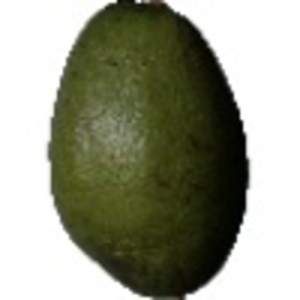abacate: (44, 1, 250, 300)
